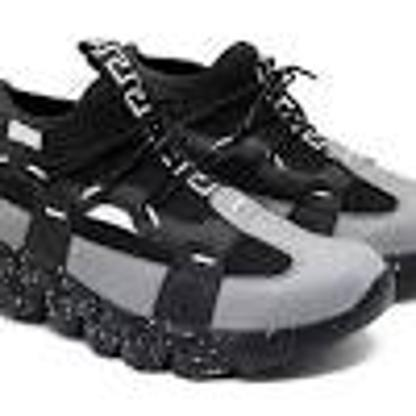not trash: (0, 38, 415, 375)
